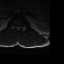CCS_normal: (17, 25, 18, 31)
LFS_stenosis: (20, 25, 22, 29)
LLS_stenosis: (19, 25, 21, 30)
RFS_stenosis: (14, 24, 15, 29)
RLS_stenosis: (15, 25, 17, 30)
